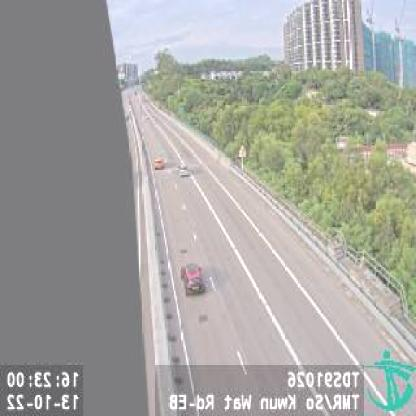Car: (182, 260, 207, 296), (178, 161, 188, 177), (154, 154, 164, 170)
